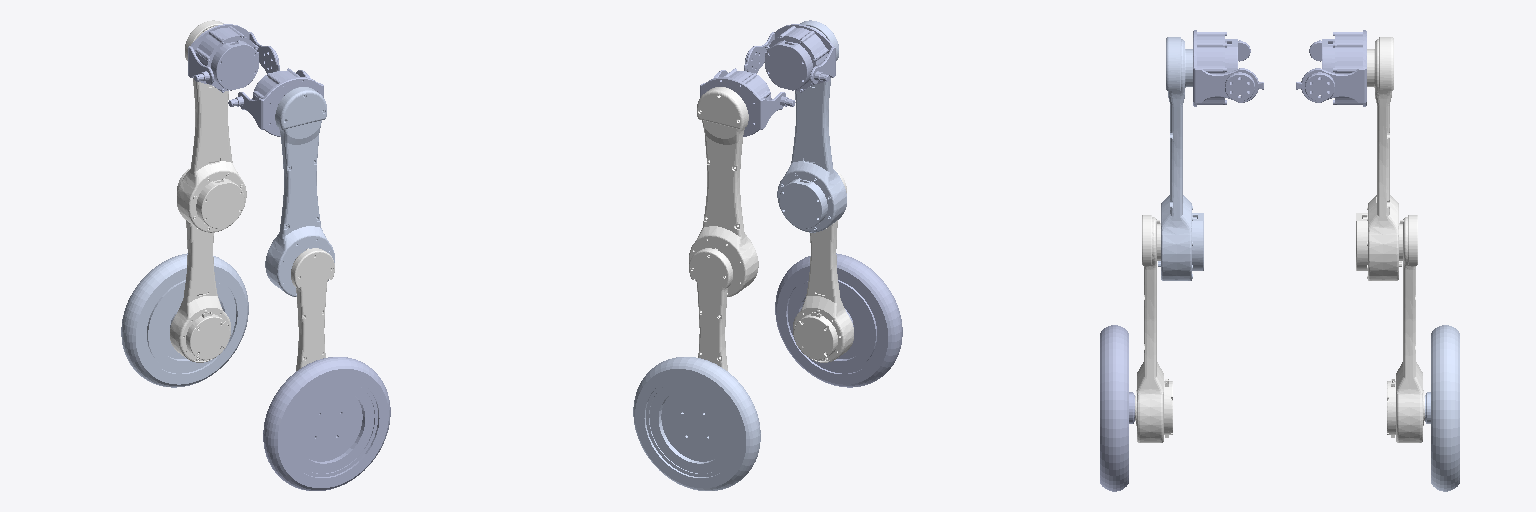
URDF robot description (duow):
<?xml version="1.0" ?>
<!-- This URDF was automatically created by SolidWorks to URDF Exporter! Originally created by Stephen Brawner (brawner@gmail.com) 
     Commit Version: 1.6.0-4-g7f85cfe  Build Version: 1.6.7995.38578
     For more information, please see http://wiki.ros.org/sw_urdf_exporter -->

<robot name="duow">

  <material name="black">
    <color rgba="0.0 0.0 0.0 1.0"/>
  </material>
  <material name="blue">
    <color rgba="0.0 0.0 0.8 1.0"/>
  </material>
  <material name="green">
    <color rgba="0.0 0.8 0.0 1.0"/>
  </material>
  <material name="grey">
    <color rgba="0.2 0.2 0.2 1.0"/>
  </material>
  <material name="silver">
    <color rgba="0.9137254901960784 0.9137254901960784 0.8470588235294118 1.0"/>
  </material>
  <material name="orange">
    <color rgba="1.0 0.4235294117647059 0.0392156862745098 1.0"/>
  </material>
  <material name="brown">
    <color rgba="0.8705882352941177 0.8117647058823529 0.7647058823529411 1.0"/>
  </material>
  <material name="red">
    <color rgba="0.8 0.0 0.0 1.0"/>
  </material>
  <material name="white">
    <color rgba="1.0 1.0 1.0 1.0"/>
  </material>

  <link name="base">
    <inertial>
      <origin xyz="0 0 0" rpy="0 0 0" />
      <mass value="0.0001" />
      <inertia ixx="0.0001" ixy="0" ixz="0" iyy="0.0001" iyz="0" izz="0.0001" />
    </inertial>
    <visual>
      <origin xyz="0 0 0" rpy="0 0 0" />
      <geometry>
        <box size="0.001 0.001 0.001"/>
      </geometry>
    </visual>
  </link>

  <link name="imu_link">
    <inertial>
      <origin xyz="0.0188 0 0.0095" rpy="0 0 0" />
      <mass value="0.123" />
      <inertia ixx="0.0001" ixy="0" ixz="0" iyy="0.0001" iyz="0" izz="0.0001" />
    </inertial>
    <visual>
      <origin rpy="0 0 0" xyz="0 0 0"/>
      <geometry>
        <box size="0.001 0.001 0.001"/>
      </geometry>
      <material name="red"/>
    </visual>
    <collision>
      <origin rpy="0 0 0" xyz="0 0 0"/>
      <geometry>
        <box size=".001 .001 .001"/>
      </geometry>
    </collision>
  </link>

  <joint name="imu_joint" type="fixed">
    <origin xyz="0.01153 0 0.068" rpy="0 0 0" />
    <parent link="base" />
    <child link="imu_link" />
    <axis xyz="0 0 0" />
  </joint>

  <link name="F_base_link">
    <inertial>
      <origin
        xyz="-0.0031 -0.0 0.0198"
        rpy="0 0 0" />
      <mass
        value="6.0608" />
      <inertia
        ixx="0.028"
        ixy="-0.0006"
        ixz="0.0013"
        iyy="0.0805"
        iyz="0.0001"
        izz="0.0866" />
    </inertial>
    <visual>
      <origin
        xyz="0 0 0"
        rpy="0 0 0" />
      <geometry>
        <mesh filename="package://duow_description/meshes/F_base_link.STL" />
      </geometry>
      <material name="grey"/>
    </visual>
    <collision>
      <origin rpy="0 0 0" xyz="0 0 0.022"/>
      <geometry>
        <box size="0.3505 0.198 0.152"/>
      </geometry>
    </collision>
  </link>

  <joint name="F_base_joint" type="fixed">
    <origin xyz="0 0 0" rpy="0 0 0" />
    <parent link="base" />
    <child link="F_base_link" />
    <axis xyz="0 0 0" />
  </joint>

  <link name="FL_hip">
    <inertial>
      <origin
        xyz="0.0315 0 -0.0546"
        rpy="0 0 0" />
      <mass
        value="0.755" />
      <inertia
        ixx="0.0009"
        ixy="0"
        ixz="0"
        iyy="0.0008"
        iyz="0"
        izz="0.0006" />
    </inertial>
    <visual>
      <origin
        xyz="0 0 0"
        rpy="0 0 0" />
      <geometry>
        <mesh
          filename="package://duow_description/meshes/FL_hip.STL" />
      </geometry>
      <material
        name="">
        <color
          rgba="0.79216 0.81961 0.93333 1" />
      </material>
    </visual>
  </link>

  <joint name="FL_hip_joint" type="revolute">
    <origin xyz="0.05525 0.048 0" rpy="1.5708 0 1.5708" />
    <parent link="F_base_link" />
    <child link="FL_hip" />
    <axis xyz="0 0 1" />
    <limit
      lower="-0.61"
      upper="0.36"
      effort="36"
      velocity="42" />
  </joint>

  <link name="FL_thigh">
    <inertial>
      <origin
        xyz="0.1906 0.0002 0.021"
        rpy="0 0 0" />
      <mass
        value="0.9375" />
      <inertia
        ixx="0.0007"
        ixy="0"
        ixz="0"
        iyy="0.0063"
        iyz="0"
        izz="0.0066" />
    </inertial>
    <visual>
      <origin
        xyz="0 0 0"
        rpy="0 0 0" />
      <geometry>
        <mesh
          filename="package://duow_description/meshes/FL_thigh.STL" />
      </geometry>
      <material
        name="">
        <color
          rgba="1 1 1 1" />
      </material>
    </visual>
    <!-- <collision>
      <origin rpy="0 0 0" xyz="0.08 0 0.026"/>
      <geometry>
        <box size="0.236 0.070 0.020"/>
      </geometry>
    </collision>
    <collision>
      <origin rpy="0 0 0" xyz="0.23 0 0.0175"/>
      <geometry>
        <cylinder length="0.051" radius="0.047"/>
      </geometry>
    </collision> -->
  </link>

  <joint name="FL_thigh_joint" type="revolute">
    <origin xyz="0.0525 0 -0.05525" rpy="-1.5708 0 -1.5708" />
    <parent link="FL_hip" />
    <child link="FL_thigh" />
    <axis xyz="0 0 1" />
    <limit
      lower="-3.14"
      upper="3.14"
      effort="36"
      velocity="42" />
  </joint>

  <link name="FL_calf">
    <inertial>
      <origin
        xyz="0.1793 0 0.0108"
        rpy="0 0 0" />
      <mass
        value="0.6055" />
      <inertia
        ixx="0.0003"
        ixy="0"
        ixz="0.0001"
        iyy="0.0038"
        iyz="0"
        izz="0.0039" />
    </inertial>
    <visual>
      <origin
        xyz="0 0 0"
        rpy="0 0 0" />
      <geometry>
        <mesh
          filename="package://duow_description/meshes/FL_calf.STL" />
      </geometry>
      <material
        name="">
        <color
          rgba="1 1 1 1" />
      </material>
    </visual>
    <collision>
      <origin rpy="0 0 0" xyz="0.075 0 0.015"/>
      <geometry>
        <box size="0.218 0.060 0.015"/>
      </geometry>
    </collision>
    <collision>
      <origin rpy="0 0 0" xyz="0.218 0 0.0095"/>
      <geometry>
        <cylinder length="0.0435" radius="0.042"/>
      </geometry>
    </collision>
  </link>

  <joint name="FL_calf_joint" type="revolute">
    <origin xyz="0.23 0 0.0415" rpy="0 0 0" />
    <parent link="FL_thigh" />
    <child link="FL_calf" />
    <axis xyz="0 0 1" />
    <limit
      lower="-2.79"
      upper="2.79"
      effort="36"
      velocity="42" />
  </joint>

  <link name="FL_foot">
    <inertial>
      <origin
        xyz="0 0 0.0227"
        rpy="0 0 0" />
      <mass
        value="0.5134" />
      <inertia
        ixx="0.0013"
        ixy="0"
        ixz="0"
        iyy="0.0013"
        iyz="0"
        izz="0.0024" />
    </inertial>
    <visual>
      <origin
        xyz="0 0 0"
        rpy="0 0 0" />
      <geometry>
        <mesh
          filename="package://duow_description/meshes/FL_foot.STL" />
      </geometry>
      <material
        name="">
        <color
          rgba="0.86667 0.9098 1 1" />
      </material>
    </visual>
    <collision>
      <origin rpy="0 0 0" xyz="0 0 0.0235"/>
      <geometry>
        <cylinder length="0.035" radius="0.1"/>
      </geometry>
    </collision>
  </link>

  <joint name="FL_foot_joint" type="revolute">
    <origin xyz="0.22 0 0.0315" rpy="0 0 0" />
    <parent link="FL_calf" />
    <child link="FL_foot" />
    <axis xyz="0 0 1" />
    <limit
      lower="-1000000.0"
      upper="1000000.0"
      effort="17"
      velocity="42" />
  </joint>

  <transmission name="FL_hip_tran">
    <type>transmission_interface/SimpleTransmission</type>
    <joint name="FL_hip_joint">
      <hardwareInterface>hardware_interface/EffortJointInterface</hardwareInterface>
    </joint>
    <actuator name="FL_hip_motor">
      <hardwareInterface>hardware_interface/EffortJointInterface</hardwareInterface>
      <mechanicalReduction>1</mechanicalReduction>
    </actuator>
  </transmission>
  <transmission name="FL_thigh_tran">
    <type>transmission_interface/SimpleTransmission</type>
    <joint name="FL_thigh_joint">
      <hardwareInterface>hardware_interface/EffortJointInterface</hardwareInterface>
    </joint>
    <actuator name="FL_thigh_motor">
      <hardwareInterface>hardware_interface/EffortJointInterface</hardwareInterface>
      <mechanicalReduction>1</mechanicalReduction>
    </actuator>
  </transmission>
  <transmission name="FL_calf_tran">
    <type>transmission_interface/SimpleTransmission</type>
    <joint name="FL_calf_joint">
      <hardwareInterface>hardware_interface/EffortJointInterface</hardwareInterface>
    </joint>
    <actuator name="FL_calf_motor">
      <hardwareInterface>hardware_interface/EffortJointInterface</hardwareInterface>
      <mechanicalReduction>1</mechanicalReduction>
    </actuator>
  </transmission>
  <transmission name="FL_foot_tran">
    <type>transmission_interface/SimpleTransmission</type>
    <joint name="FL_foot_joint">
      <hardwareInterface>hardware_interface/EffortJointInterface</hardwareInterface>
    </joint>
    <actuator name="FL_foot_motor">
      <hardwareInterface>hardware_interface/EffortJointInterface</hardwareInterface>
      <mechanicalReduction>1</mechanicalReduction>
    </actuator>
  </transmission>

  <link name="FR_hip">
    <inertial>
      <origin
        xyz="-0.0315 0 -0.0546"
        rpy="0 0 0" />
      <mass
        value="0.755" />
      <inertia
        ixx="0.0009"
        ixy="0"
        ixz="0"
        iyy="0.0008"
        iyz="0"
        izz="0.0006" />
    </inertial>
    <visual>
      <origin
        xyz="0 0 0"
        rpy="0 0 0" />
      <geometry>
        <mesh
          filename="package://duow_description/meshes/FR_hip.STL" />
      </geometry>
      <material
        name="">
        <color
          rgba="0.79216 0.81961 0.93333 1" />
      </material>
    </visual>
  </link>

  <joint name="FR_hip_joint" type="revolute">
    <origin xyz="0.05525 -0.048 0" rpy="1.5708 0 1.5708" />
    <parent link="F_base_link" />
    <child link="FR_hip" />
    <axis xyz="0 0 1" />
    <limit
      lower="-0.36"
      upper="0.61"
      effort="36"
      velocity="42" />
  </joint>

  <link name="FR_thigh">
    <inertial>
      <origin
        xyz="0.1906 0.0001 -0.021"
        rpy="0 0 0" />
      <mass
        value="0.9375" />
      <inertia
        ixx="0.0007"
        ixy="0"
        ixz="0"
        iyy="0.0063"
        iyz="0"
        izz="0.0066" />
    </inertial>
    <visual>
      <origin
        xyz="0 0 0"
        rpy="0 0 0" />
      <geometry>
        <mesh
          filename="package://duow_description/meshes/FR_thigh.STL" />
      </geometry>
      <material
        name="">
        <color
          rgba="0.86667 0.9098 1 1" />
      </material>
    </visual>
    <!-- <collision>
      <origin rpy="0 0 0" xyz="0.08 0 -0.026"/>
      <geometry>
        <box size="0.236 0.070 0.020"/>
      </geometry>
    </collision>
    <collision>
      <origin rpy="0 0 0" xyz="0.23 0 -0.0175"/>
      <geometry>
        <cylinder length="0.051" radius="0.047"/>
      </geometry>
    </collision> -->
  </link>

  <joint name="FR_thigh_joint" type="revolute">
    <origin xyz="-0.0525 0 -0.05525" rpy="-1.5708 0 -1.5708" />
    <parent link="FR_hip" />
    <child link="FR_thigh" />
    <axis xyz="0 0 1" />
    <limit
      lower="-3.14"
      upper="3.14"
      effort="36"
      velocity="42" />
  </joint>

  <link name="FR_calf">
    <inertial>
      <origin
        xyz="0.1793 0 -0.0108"
        rpy="0 0 0" />
      <mass
        value="0.6055" />
      <inertia
        ixx="0.0003"
        ixy="0"
        ixz="-0.0001"
        iyy="0.0038"
        iyz="0"
        izz="0.0039" />
    </inertial>
    <visual>
      <origin
        xyz="0 0 0"
        rpy="0 0 0" />
      <geometry>
        <mesh
          filename="package://duow_description/meshes/FR_calf.STL" />
      </geometry>
      <material
        name="">
        <color
          rgba="1 1 1 1" />
      </material>
    </visual>
    <collision>
      <origin rpy="0 0 0" xyz="0.075 0 -0.015"/>
      <geometry>
        <box size="0.218 0.060 0.015"/>
      </geometry>
    </collision>
    <collision>
      <origin rpy="0 0 0" xyz="0.218 0 -0.0095"/>
      <geometry>
        <cylinder length="0.0435" radius="0.042"/>
      </geometry>
    </collision>
  </link>

  <joint name="FR_calf_joint" type="revolute">
    <origin xyz="0.23 0 -0.0415" rpy="0 0 0" />
    <parent link="FR_thigh" />
    <child link="FR_calf" />
    <axis xyz="0 0 1" />
    <limit
      lower="-2.79"
      upper="2.79"
      effort="36"
      velocity="42" />
  </joint>

  <link name="FR_foot">
    <inertial>
      <origin
        xyz="0 0 -0.0227"
        rpy="0 0 0" />
      <mass
        value="0.5134" />
      <inertia
        ixx="0.0013"
        ixy="0"
        ixz="0"
        iyy="0.0013"
        iyz="0"
        izz="0.0024" />
    </inertial>
    <visual>
      <origin
        xyz="0 0 0"
        rpy="0 0 0" />
      <geometry>
        <mesh
          filename="package://duow_description/meshes/FR_foot.STL" />
      </geometry>
      <material
        name="">
        <color
          rgba="0.79216 0.81961 0.93333 1" />
      </material>
    </visual>
    <collision>
      <origin rpy="0 0 0" xyz="0 0 -0.0235"/>
      <geometry>
        <cylinder length="0.035" radius="0.1"/>
      </geometry>
    </collision>
  </link>

  <joint name="FR_foot_joint" type="revolute">
    <origin xyz="0.22 0 -0.0315" rpy="0 0 0" />
    <parent link="FR_calf" />
    <child link="FR_foot" />
    <axis xyz="0 0 1" />
    <limit 
      lower="-1000000.0"
      upper="1000000.0"
      effort="17"
      velocity="42" />
  </joint>

  <transmission name="FR_hip_tran">
    <type>transmission_interface/SimpleTransmission</type>
    <joint name="FR_hip_joint">
      <hardwareInterface>hardware_interface/EffortJointInterface</hardwareInterface>
    </joint>
    <actuator name="FR_hip_motor">
      <hardwareInterface>hardware_interface/EffortJointInterface</hardwareInterface>
      <mechanicalReduction>1</mechanicalReduction>
    </actuator>
  </transmission>
  <transmission name="FR_thigh_tran">
    <type>transmission_interface/SimpleTransmission</type>
    <joint name="FR_thigh_joint">
      <hardwareInterface>hardware_interface/EffortJointInterface</hardwareInterface>
    </joint>
    <actuator name="FR_thigh_motor">
      <hardwareInterface>hardware_interface/EffortJointInterface</hardwareInterface>
      <mechanicalReduction>1</mechanicalReduction>
    </actuator>
  </transmission>
  <transmission name="FR_calf_tran">
    <type>transmission_interface/SimpleTransmission</type>
    <joint name="FR_calf_joint">
      <hardwareInterface>hardware_interface/EffortJointInterface</hardwareInterface>
    </joint>
    <actuator name="FR_calf_motor">
      <hardwareInterface>hardware_interface/EffortJointInterface</hardwareInterface>
      <mechanicalReduction>1</mechanicalReduction>
    </actuator>
  </transmission>
  <transmission name="FR_foot_tran">
    <type>transmission_interface/SimpleTransmission</type>
    <joint name="FR_foot_joint">
      <hardwareInterface>hardware_interface/EffortJointInterface</hardwareInterface>
    </joint>
    <actuator name="FR_foot_motor">
      <hardwareInterface>hardware_interface/EffortJointInterface</hardwareInterface>
      <mechanicalReduction>1</mechanicalReduction>
    </actuator>
  </transmission>

</robot>

--- Render facts (derived) ---
The picture shows the robot from 3 angles, left to right: view 1: azimuth 30°, elevation 25°; view 2: azimuth 150°, elevation 25°; view 3: azimuth 270°, elevation 25°; orthographic projection.
Model duow with 11 links and 10 joints (8 revolute, 2 fixed), rooted at base, posed all joints at 0.
Links seen in each view (by area): view 1: FR_foot, FL_foot, FR_thigh, FL_thigh, FL_calf, FL_hip, FR_calf, FR_hip; view 2: FL_foot, FR_foot, FL_thigh, FR_thigh, FR_calf, FR_hip, FL_calf, FL_hip; view 3: FL_thigh, FR_thigh, FL_foot, FR_foot, FL_calf, FR_calf, FL_hip, FR_hip.
Link boxes in pixels (box(x1,y1,x2,y2)): FR_foot: box(263, 357, 390, 490); FL_foot: box(121, 253, 248, 387); FR_thigh: box(265, 87, 334, 296); FL_thigh: box(177, 20, 246, 232); FL_calf: box(170, 168, 230, 362); FL_hip: box(188, 24, 279, 92); FR_calf: box(291, 248, 334, 370); FR_hip: box(228, 68, 323, 136); FL_foot: box(633, 357, 760, 490); FR_foot: box(775, 253, 902, 387); FL_thigh: box(689, 87, 758, 296); FR_thigh: box(777, 20, 846, 232); FR_calf: box(793, 168, 853, 362); FR_hip: box(744, 24, 835, 92); FL_calf: box(689, 248, 732, 370); FL_hip: box(700, 68, 795, 136); FL_thigh: box(1356, 37, 1401, 280); FR_thigh: box(1158, 37, 1203, 280); FL_foot: box(1425, 325, 1459, 491); FR_foot: box(1100, 325, 1134, 491); FL_calf: box(1387, 215, 1424, 442); FR_calf: box(1135, 215, 1172, 442); FL_hip: box(1296, 30, 1366, 106); FR_hip: box(1193, 30, 1263, 106).
Bounding box of the posed robot: 0.1995 × 0.432 × 0.6184 m (x, y, z).
Meshes: 9 distinct files referenced, 8 mesh visuals loaded (8 binary STL); not drawn: 1 (reference not matched to a file when rendering).
